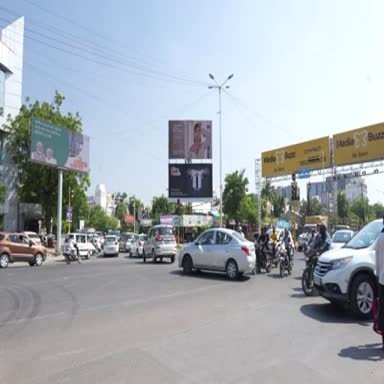Car: (314, 220, 383, 319), (178, 229, 256, 279), (0, 233, 46, 267), (143, 224, 176, 263), (64, 233, 91, 259), (298, 224, 316, 251), (331, 230, 353, 248), (129, 234, 146, 256), (118, 233, 134, 253), (104, 235, 119, 256), (23, 232, 41, 245), (91, 234, 103, 251), (94, 232, 104, 248), (87, 235, 95, 254), (276, 229, 284, 243)
